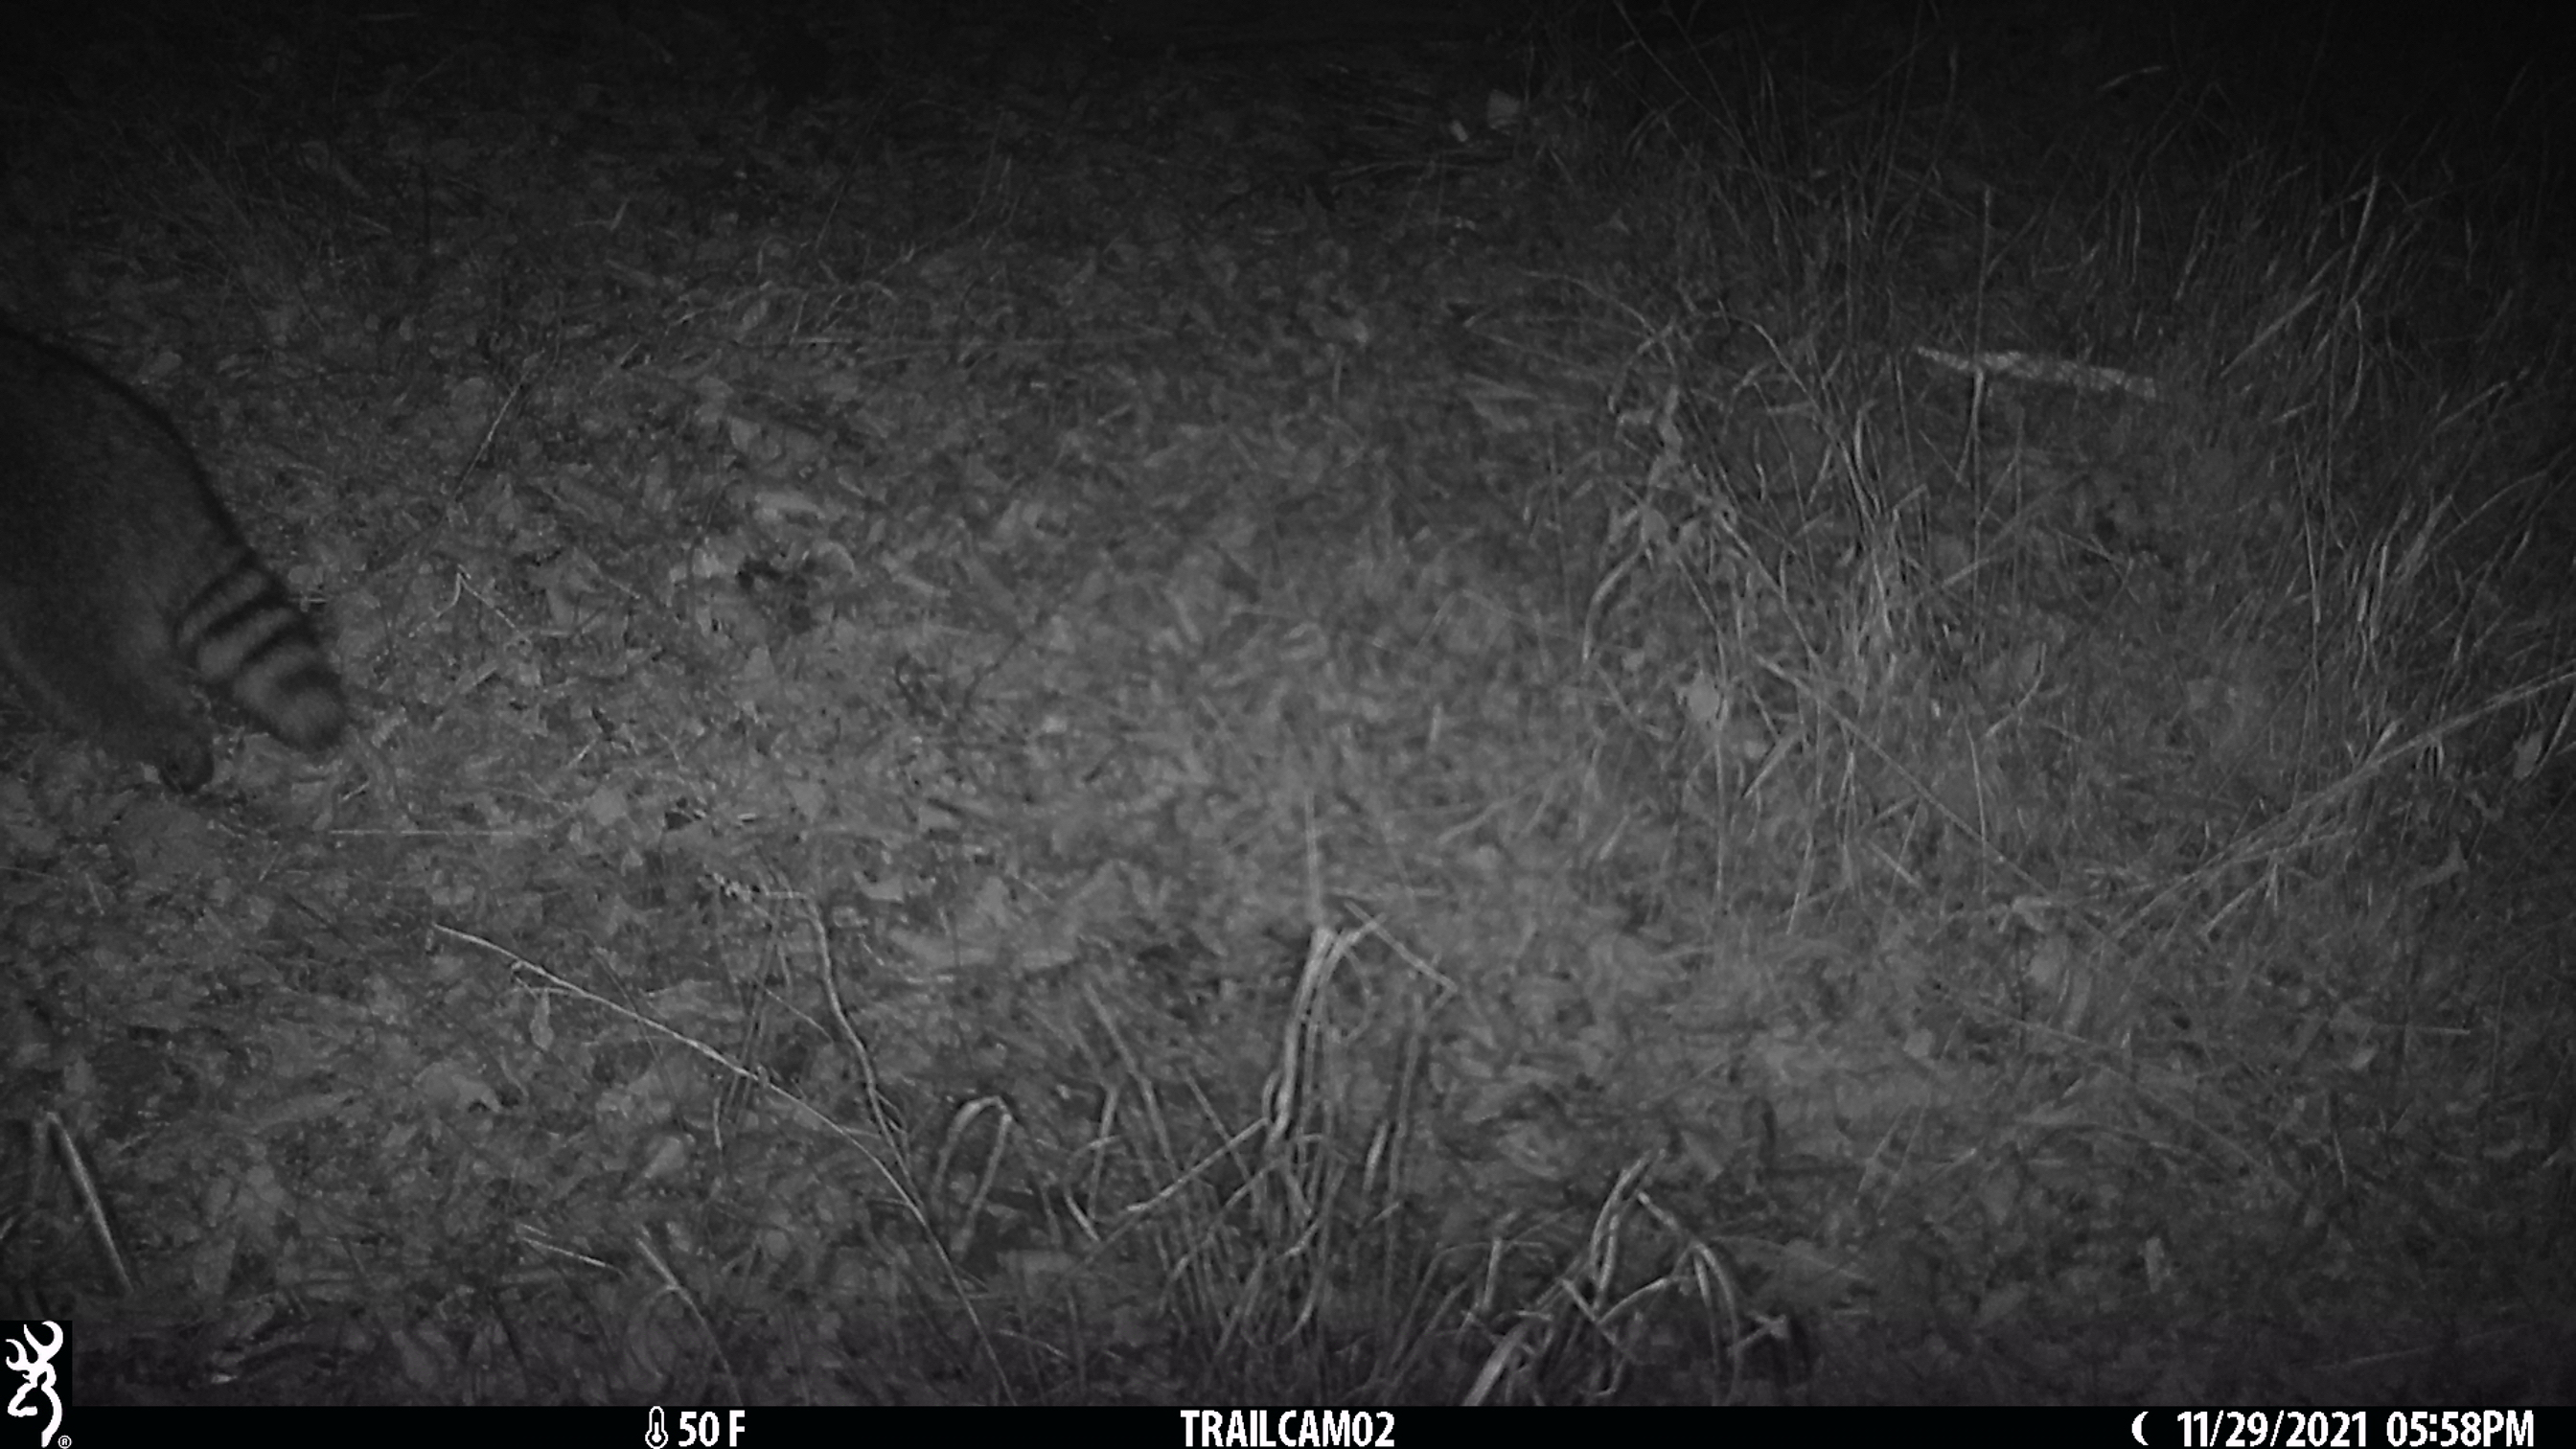Raccoon: (2, 317, 354, 794)
